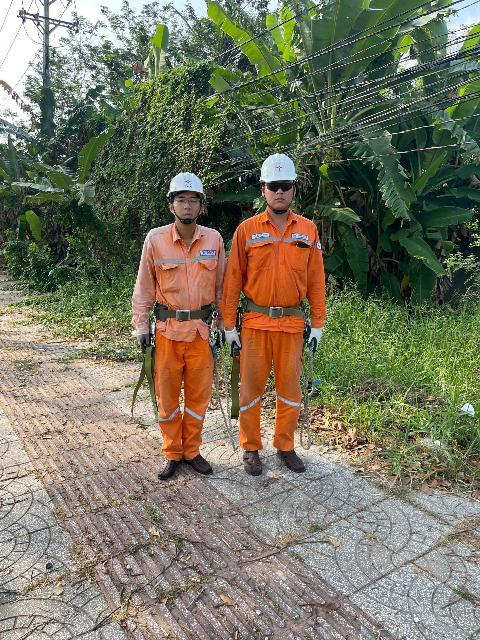gloves: (301, 326, 329, 354), (134, 329, 157, 357), (221, 326, 243, 353), (211, 326, 234, 350)
harness: (236, 289, 319, 332), (148, 291, 228, 331)
helmet: (251, 150, 301, 186), (164, 163, 205, 201)
shoes: (270, 440, 306, 477), (148, 451, 186, 483), (184, 444, 218, 478), (241, 442, 273, 475)
